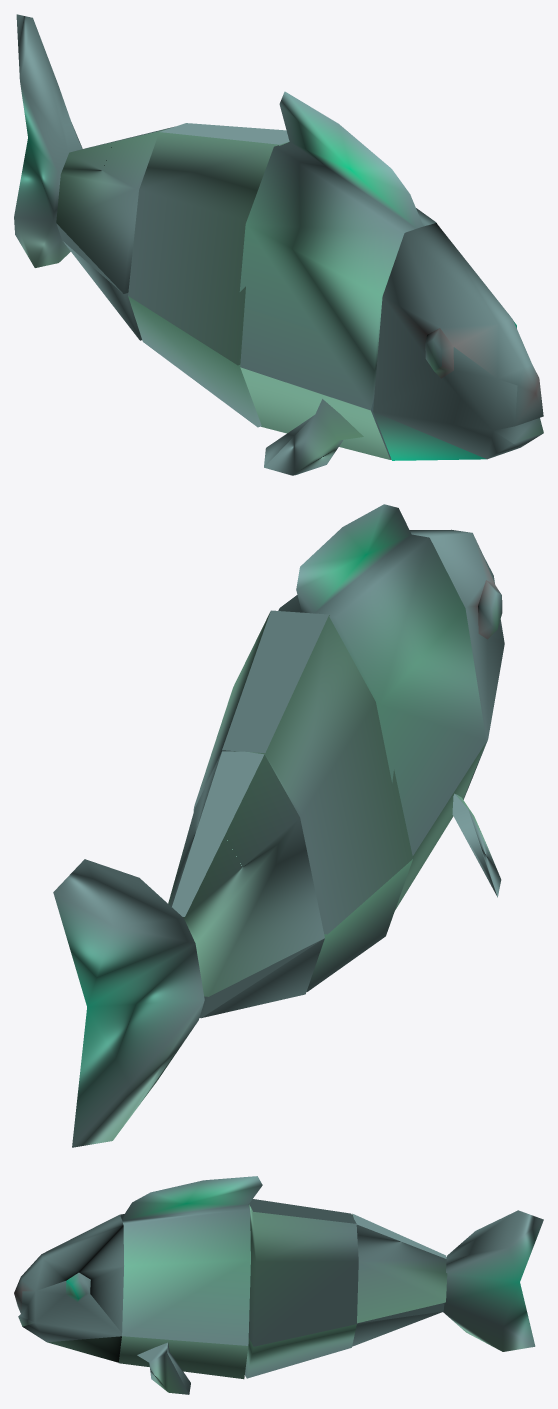
File: ffec.hrc.gltf
3 renders of one model, top to bottom at view 1: azimuth 30°, elevation 25°; view 2: azimuth 150°, elevation 25°; view 3: azimuth 270°, elevation 25°, orthographic. The views are drawn at different scales.
Parts seen in each view (by area): view 1: ffecBone3_bone_4, ffecBone4_bone_5, ffecBone0_bone_3, ffecBone1_bone_2, ffecBone2_bone_1, ffecBone8_bone_9; view 2: ffecBone0_bone_3, ffecBone3_bone_4, ffecBone1_bone_2, ffecBone2_bone_1, ffecBone4_bone_5, ffecBone8_bone_9; view 3: ffecBone3_bone_4, ffecBone0_bone_3, ffecBone4_bone_5, ffecBone2_bone_1, ffecBone1_bone_2, ffecBone6_bone_7.
Part boxes in pixels (x1,y1,x2,y2): ffecBone3_bone_4: (239,91,436,459); ffecBone4_bone_5: (373,223,543,460); ffecBone0_bone_3: (128,123,289,427); ffecBone1_bone_2: (56,126,174,340); ffecBone2_bone_1: (14,14,82,267); ffecBone8_bone_9: (264,399,363,475); ffecBone0_bone_3: (193,610,412,991); ffecBone3_bone_4: (278,504,486,910); ffecBone1_bone_2: (168,751,324,1018); ffecBone2_bone_1: (53,859,204,1147); ffecBone4_bone_5: (409,529,504,799); ffecBone8_bone_9: (452,793,501,897); ffecBone3_bone_4: (118,1176,262,1379); ffecBone0_bone_3: (245,1199,358,1378); ffecBone4_bone_5: (14,1214,123,1362); ffecBone2_bone_1: (443,1210,543,1351); ffecBone1_bone_2: (352,1213,447,1346); ffecBone6_bone_7: (137,1342,190,1394).
Size of the model in its own units: 7.83 by 11.32 by 28.55.
